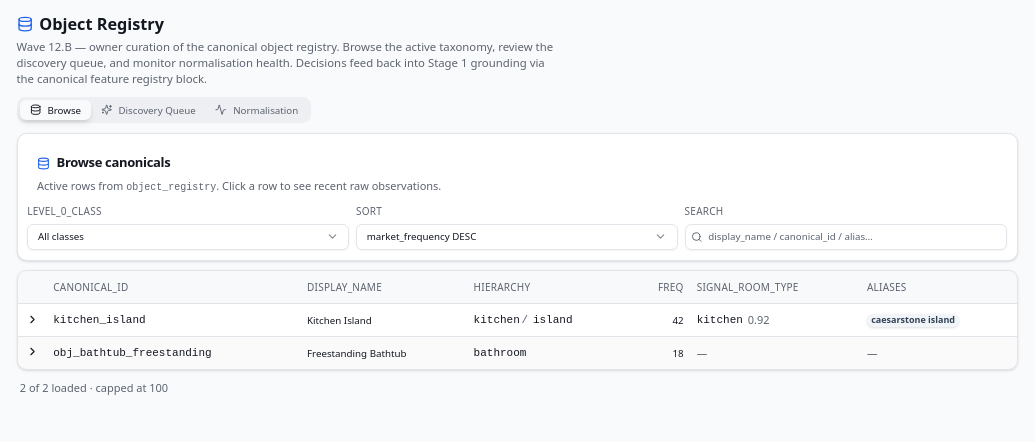
Test case: Browse tab › expands a row inline when clicked
Step 1. Click the text "kitchen_island" → {"x": 99, "y": 320}, box [47,304,301,337]
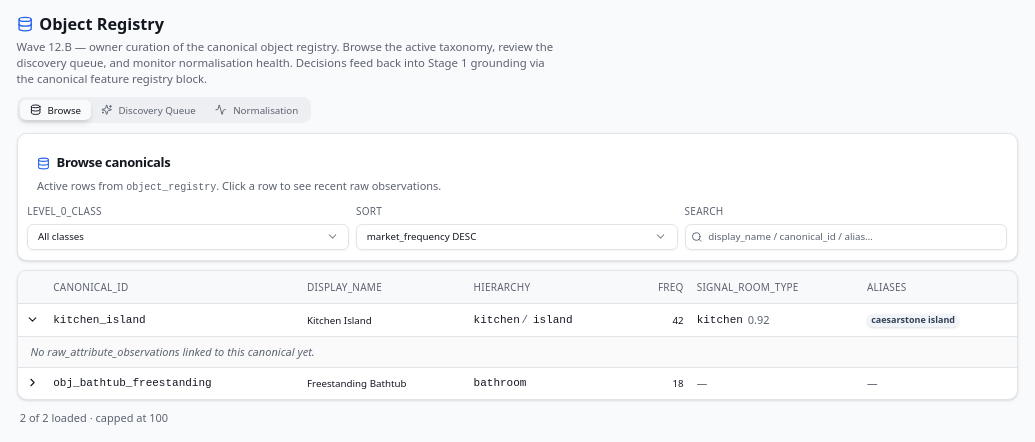
Expected: the row with test id "browse-row-expanded" is shown, [18,337,1016,367]
